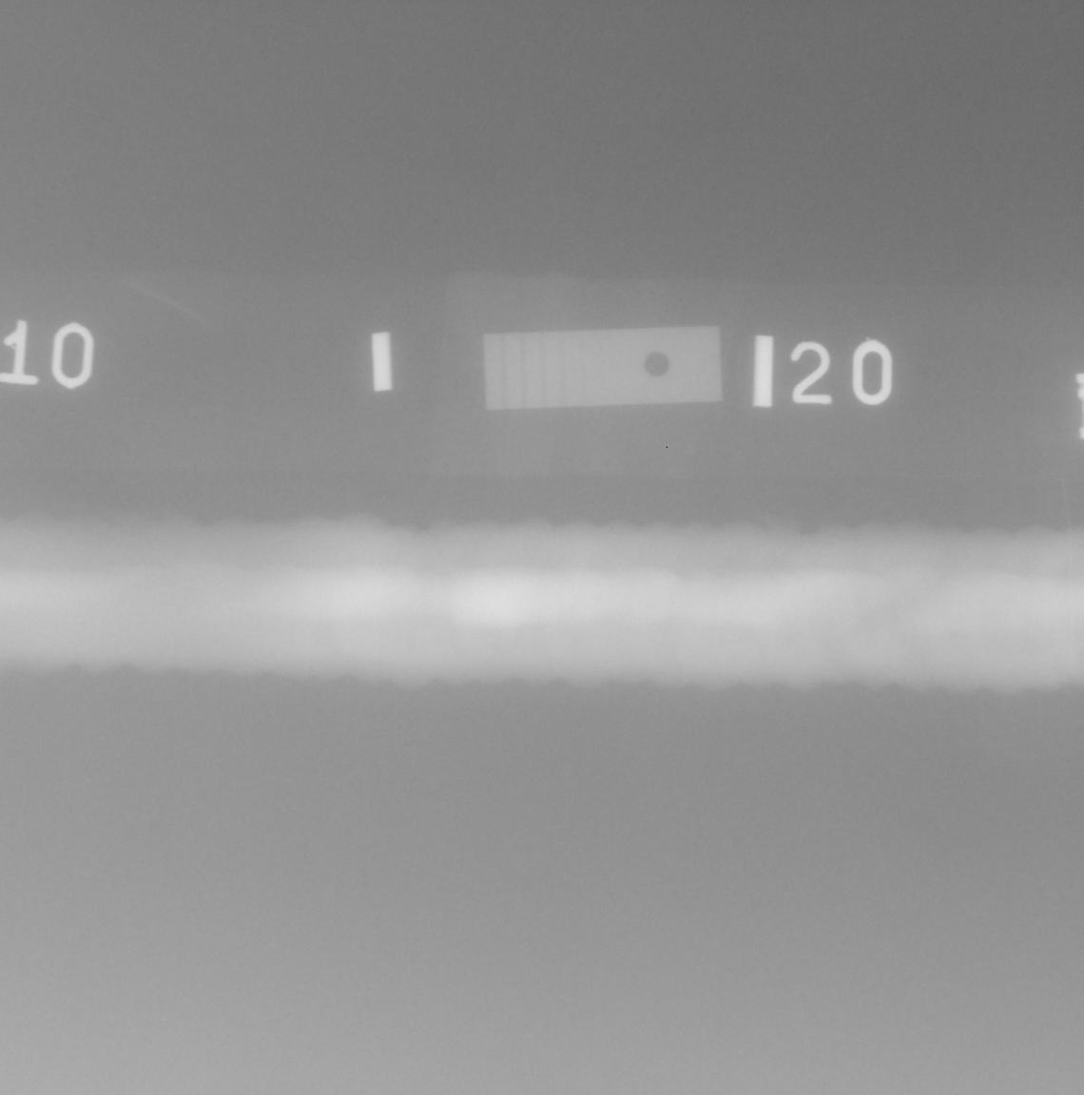Reference Standard 1: (483, 325, 723, 411)
